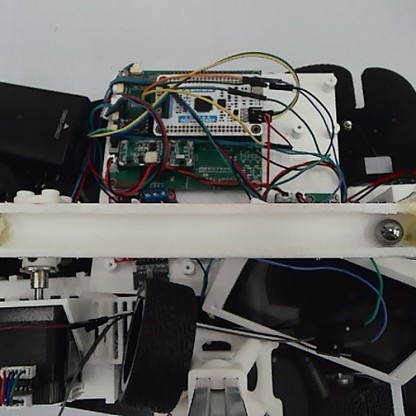ironball: (372, 215, 403, 245)
